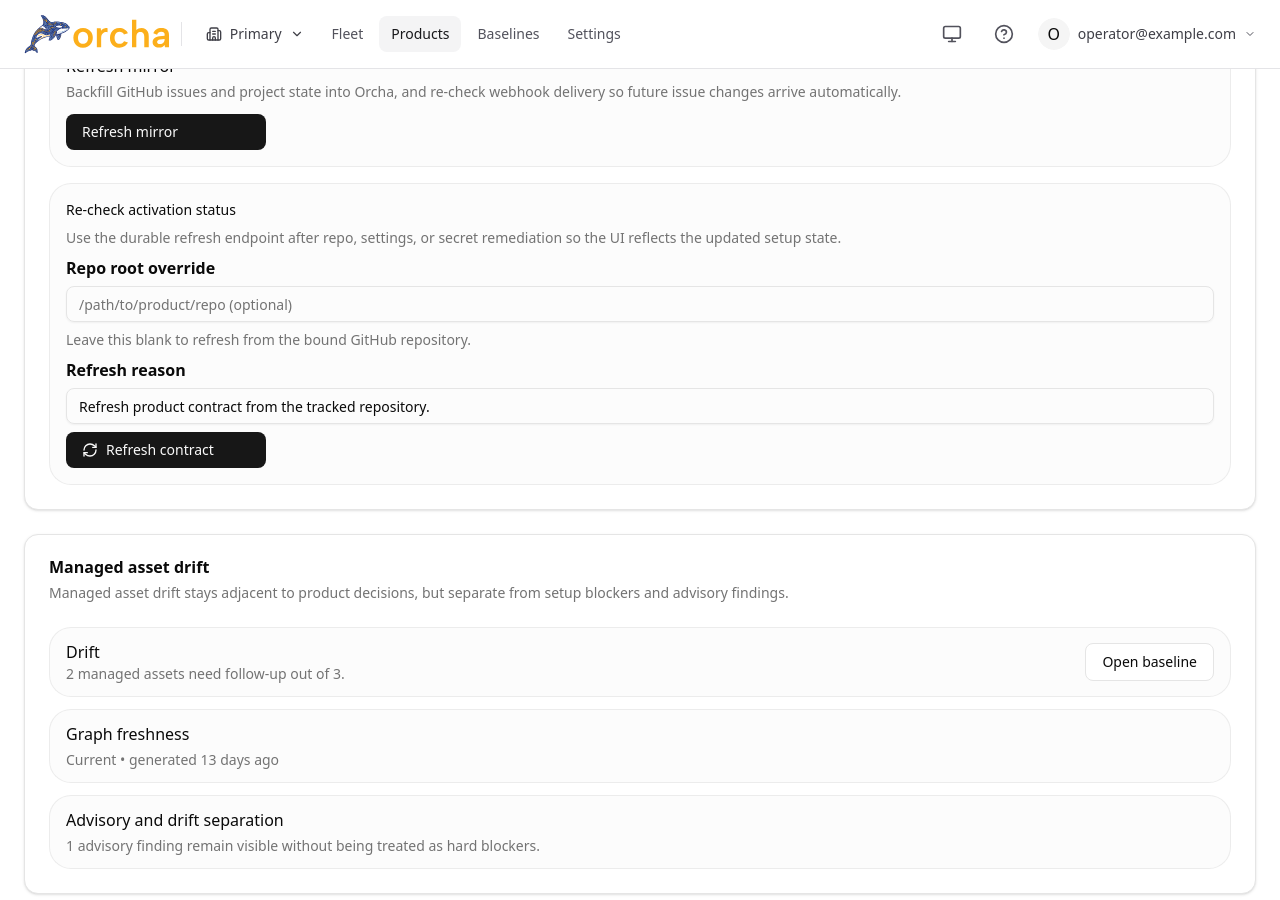
Scenario: App › keeps the pause button readable and allows hosted contract refresh without a local repo root
(page scrolled)
Click the button "Refresh contract": (166, 450) [66,432,266,468]
(page scrolled)
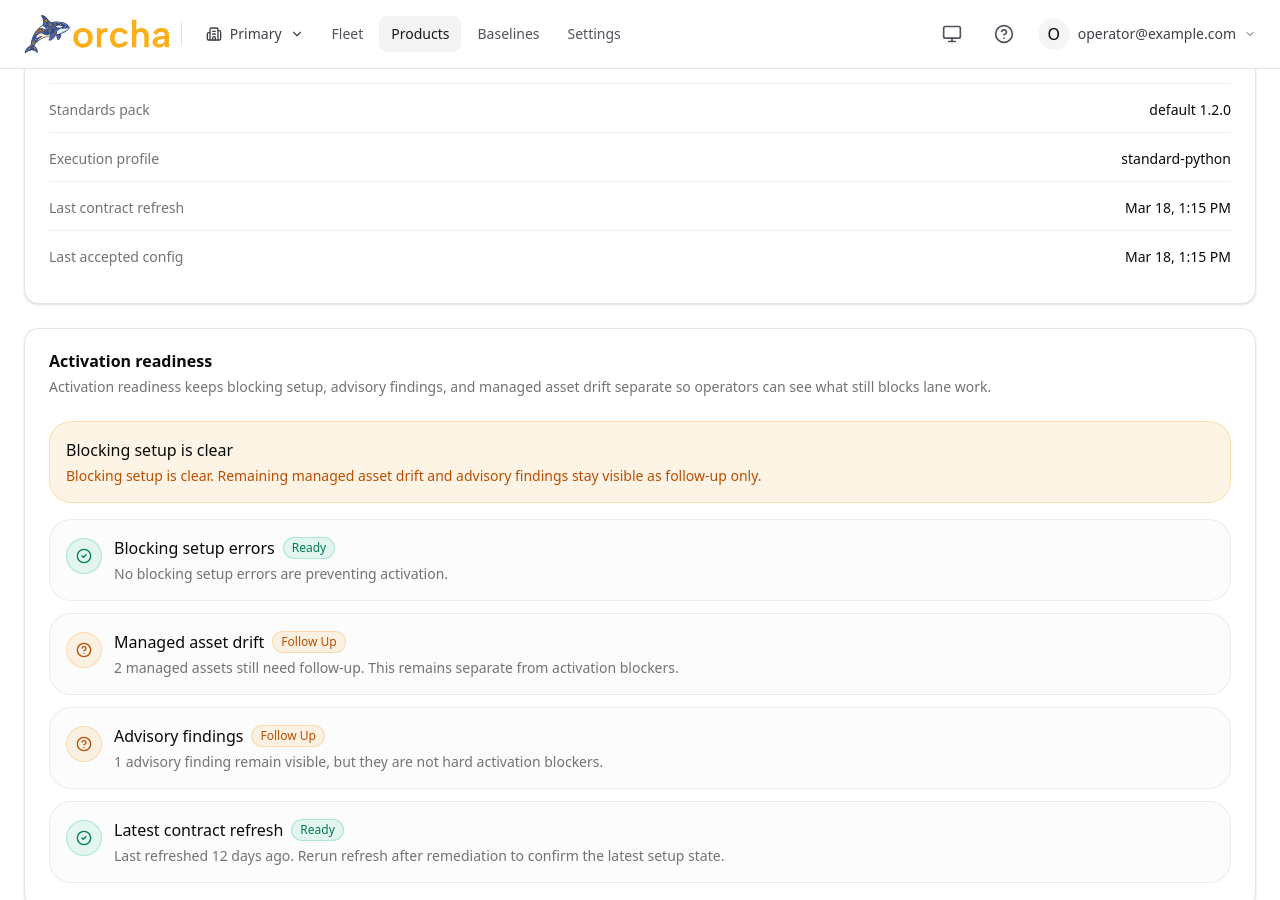
Now the text "Blocking setup is clear" is shown, box [66,439,233,461]
